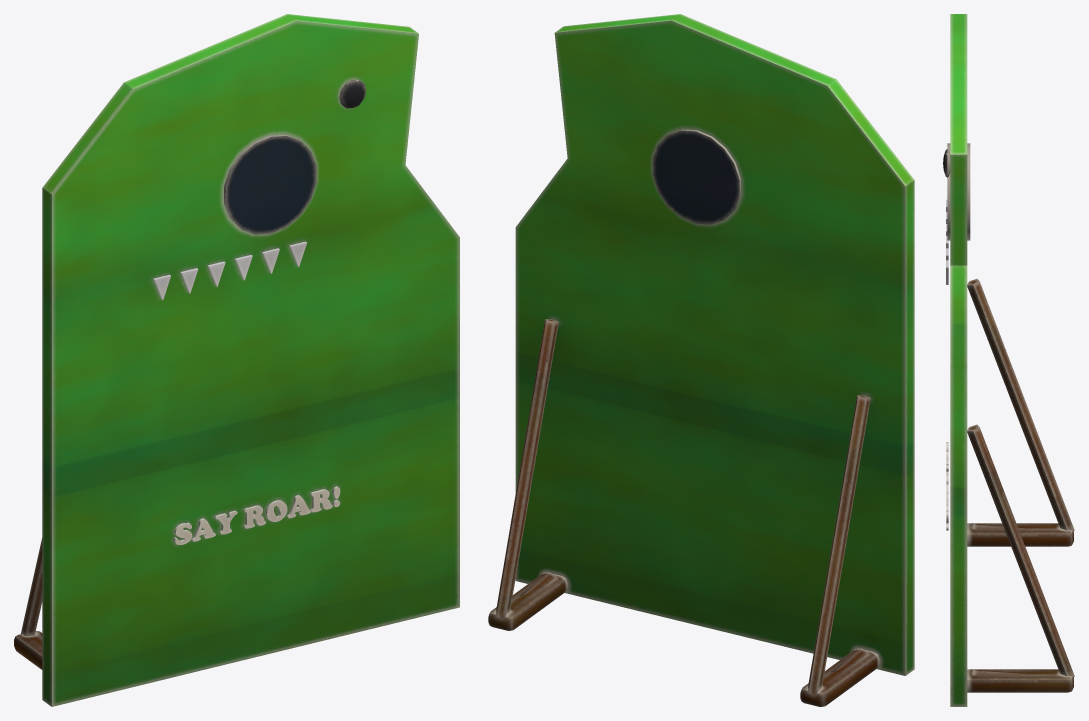
The model's file is photo_booth.glb.
3 views of the same model, side by side, from view 1: azimuth 30°, elevation 25°; view 2: azimuth 150°, elevation 25°; view 3: azimuth 270°, elevation 25° (orthographic). The views are drawn at different scales.
Parts seen in each view (by area): view 1: SM_PhotoBooth; view 2: SM_PhotoBooth; view 3: SM_PhotoBooth.
Part boxes in pixels (x1,y1,x2,y2): SM_PhotoBooth: (14, 14, 459, 706); SM_PhotoBooth: (488, 14, 914, 706); SM_PhotoBooth: (943, 14, 1074, 706).
Size of what is drawn, in the model's own units: 1.5 by 2.2 by 0.4588.
1 material, 1 textured.
